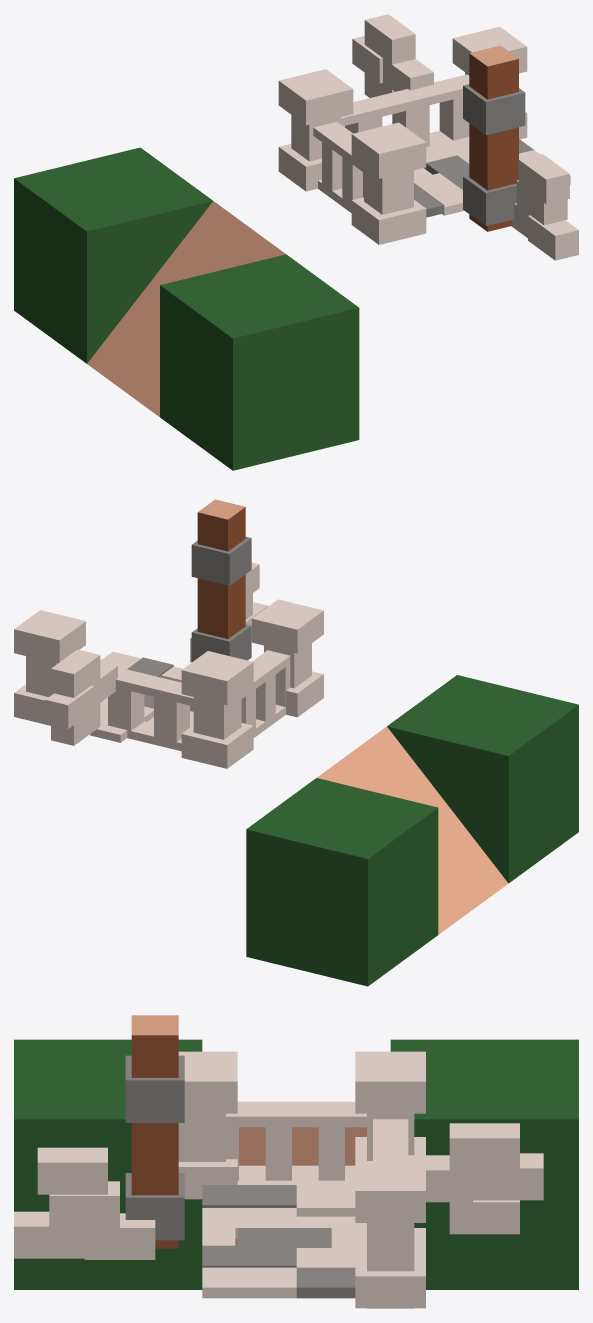
The model's file is bridge L shape 1 gmtk.gltf.
3 renders of one model, top to bottom at view 1: azimuth 30°, elevation 25°; view 2: azimuth 150°, elevation 25°; view 3: azimuth 270°, elevation 25°, orthographic. The views are drawn at different scales.
Visible parts, largest first — view 1: mesh (×21), pilar; view 2: mesh (×19), pilar; view 3: mesh (×34), pilar.
Part boxes in pixels (x1=…): mesh (×21): x1=14, y1=14, x2=578, y2=470; pilar: x1=463, y1=45, x2=525, y2=231; mesh (×19): x1=14, y1=599, x2=578, y2=986; pilar: x1=191, y1=499, x2=251, y2=662; mesh (×34): x1=14, y1=1039, x2=578, y2=1308; pilar: x1=125, y1=1015, x2=184, y2=1248.
Bounding box in the file's own units: 3.38 × 2.25 × 3.
Materials: 5 (5 with a texture image).
